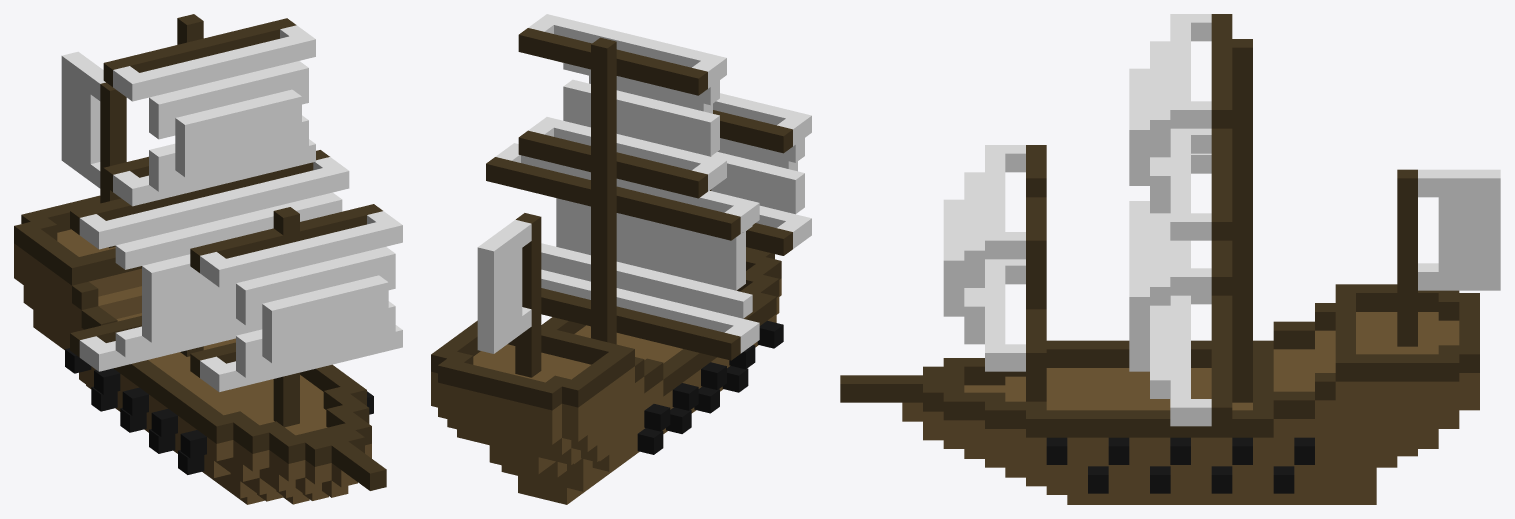
Rendered from Ship.obj.
3 renders of one model, left to right at view 1: azimuth 30°, elevation 25°; view 2: azimuth 150°, elevation 25°; view 3: azimuth 270°, elevation 25°, orthographic. The views are drawn at different scales.
Parts seen in each view (by area): view 1: Ship; view 2: Ship; view 3: Ship.
Boxes of the visible parts, x1=… form: Ship: x1=14, y1=14, x2=402, y2=504; Ship: x1=431, y1=14, x2=811, y2=504; Ship: x1=840, y1=14, x2=1500, y2=504.
Bounding box in the file's own units: 15 × 24 × 32.
Materials: 1 (1 with a texture image).
